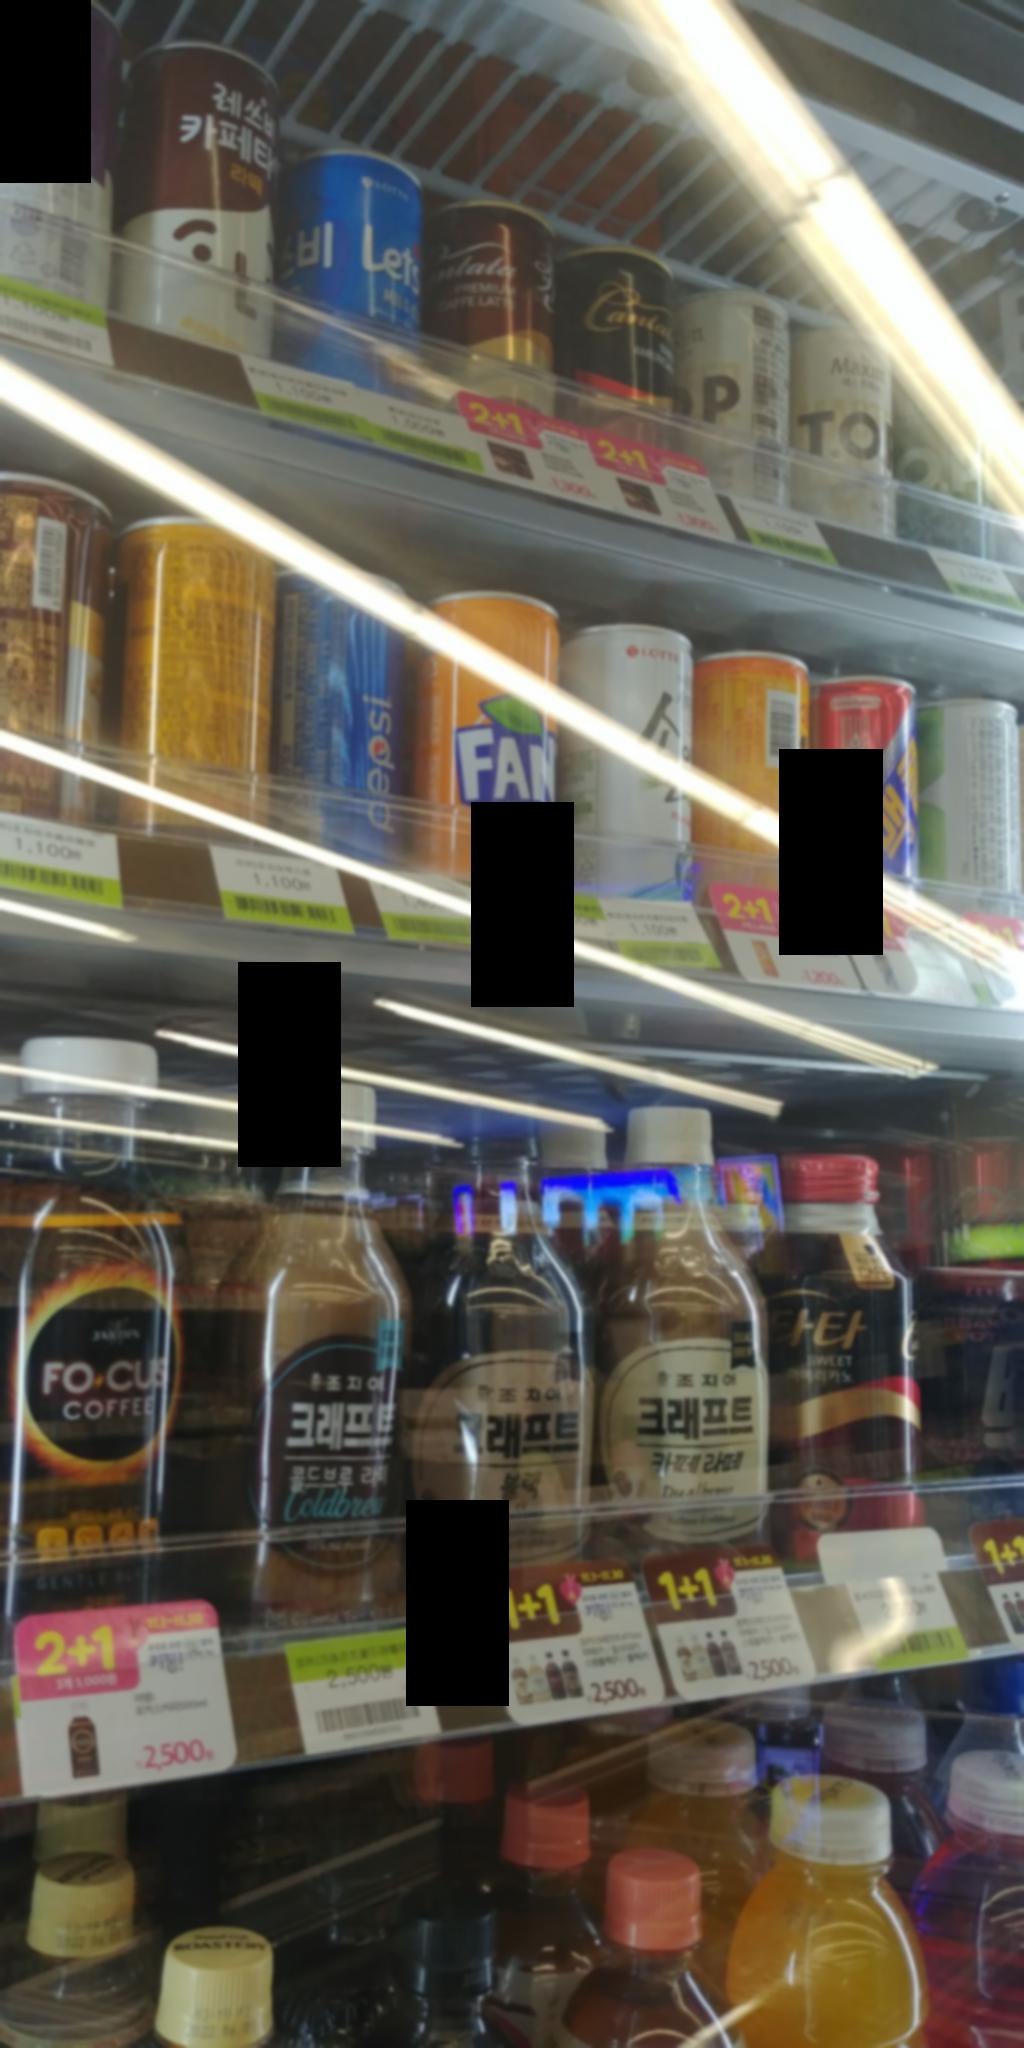georgiacraft_black: (377, 1093, 598, 1627)
letsbe: (280, 131, 431, 400)
